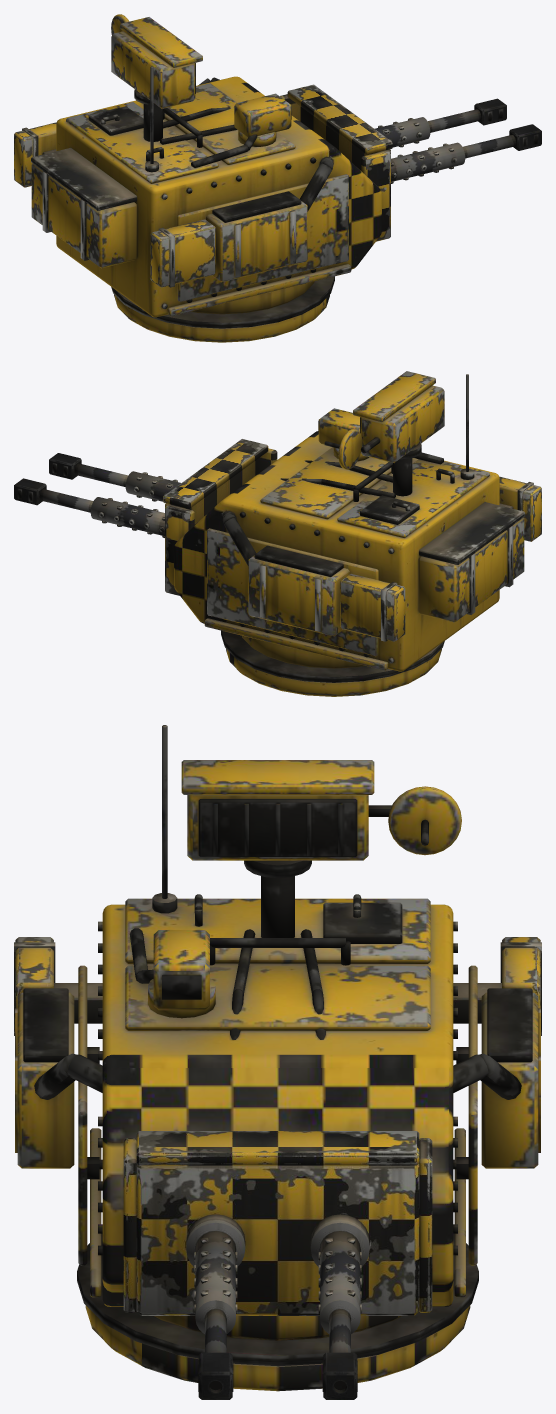
File: turret_grach_evo_chequer.glb
3 renders of one model, top to bottom at view 1: azimuth 30°, elevation 25°; view 2: azimuth 150°, elevation 25°; view 3: azimuth 270°, elevation 25°, orthographic. The views are drawn at different scales.
Visible parts, largest first — view 1: turret_light_evo, guns, pods; view 2: turret_light_evo, guns, pods; view 3: turret_light_evo, guns, pods.
Boxes of the visible parts, x1=… form: turret_light_evo: x1=31, y1=14, x2=381, y2=342; guns: x1=280, y1=84, x2=541, y2=241; pods: x1=14, y1=122, x2=215, y2=287; turret_light_evo: x1=174, y1=371, x2=524, y2=696; guns: x1=14, y1=439, x2=277, y2=595; pods: x1=340, y1=476, x2=541, y2=641; turret_light_evo: x1=15, y1=725, x2=540, y2=1391; guns: x1=123, y1=1131, x2=432, y2=1399; pods: x1=14, y1=937, x2=541, y2=1035.
Size of the model in its own units: 1.86 by 1.09 by 1.05.
Materials: 3 (3 with a texture image).
